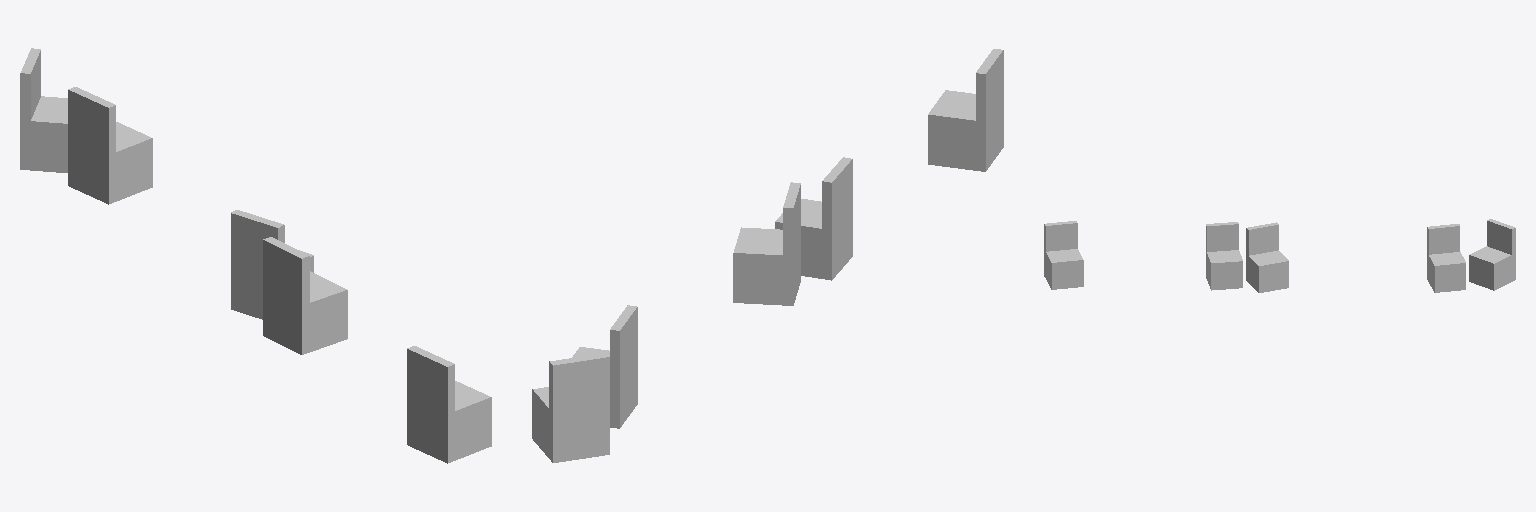
The robot description file, URDF, robot "Chair_Collision":
<?xml version="1.0" encoding="utf-8"?>
<!-- This URDF was automatically created by SolidWorks to URDF Exporter! Originally created by [author] ([email redacted]) 
     Commit Version: 1.5.1-0-g916b5db  Build Version: 1.5.7152.31018
     For more information, please see http://wiki.ros.org/sw_urdf_exporter -->
<robot
  name="Chair_Collision">
  <link
    name="base_link">
    <inertial>
      <origin
        xyz="-1.32451138240038 -4.80147325017094 0.340689342806393"
        rpy="0 0 0" />
      <mass
        value="1.167078504548" />
      <inertia
        ixx="0.0995875473329481"
        ixy="-0.000346191503137684"
        ixz="0.0165212268255941"
        iyy="0.102266818741201"
        iyz="0.00128198088000475"
        izz="0.0700953194319563" />
    </inertial>
    <visual>
      <origin
        xyz="0 0 0"
        rpy="0 0 0" />
      <geometry>
        <mesh
          filename="package://Chair_Collision/meshes/base_link.STL" />
      </geometry>
      <material
        name="">
        <color
          rgba="0.843137254901961 0.843137254901961 0.843137254901961 0.1" />
      </material>
    </visual>
    <collision>
      <origin
        xyz="0 0 0"
        rpy="0 0 0" />
      <geometry>
        <mesh
          filename="package://Chair_Collision/meshes/base_link.STL" />
      </geometry>
    </collision>
  </link>
</robot>

--- What the picture shows (computed from the rendered views, not written in the file) ---
3 views of the same robot in one strip: view 1: azimuth 30°, elevation 25°; view 2: azimuth 150°, elevation 25°; view 3: azimuth 270°, elevation 25° (orthographic).
Robot: Chair_Collision — 1 links, 0 joints (none); root link base_link; default pose: all joints at 0.
Links seen in each view (by area): view 1: base_link; view 2: base_link; view 3: base_link.
Boxes of the visible links, bbox=[...] form: base_link: bbox=[20, 48, 491, 463]; base_link: bbox=[532, 49, 1003, 462]; base_link: bbox=[1044, 219, 1515, 292].
Bounding box of the posed robot: 0.9278 × 8.42 × 1.04 m (x, y, z).
Meshes: 1 distinct files referenced, 1 mesh visuals loaded (1 binary STL).